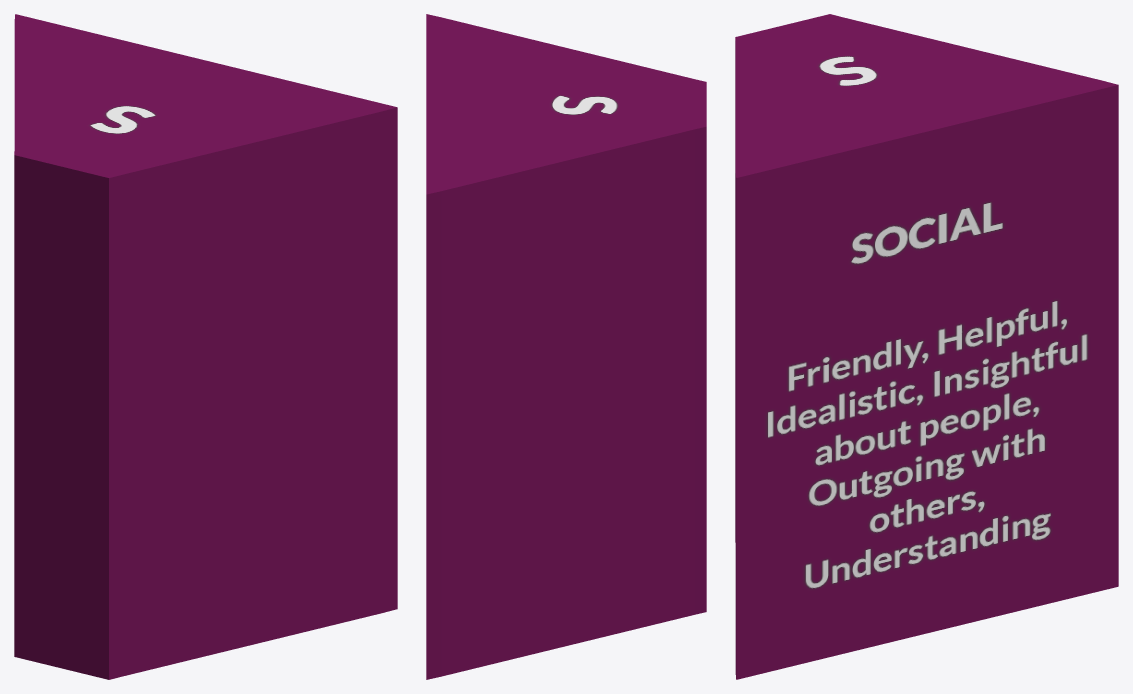
The model's file is smodel.glb.
The picture shows the model from 3 angles, left to right: view 1: azimuth 30°, elevation 25°; view 2: azimuth 150°, elevation 25°; view 3: azimuth 270°, elevation 25°; orthographic projection. The views are drawn at different scales.
Visible parts, largest first — view 1: Object008; view 2: Object008; view 3: Object008.
Boxes of the visible parts, <box> form: Object008: <box>14,14,397,679</box>; Object008: <box>426,14,706,679</box>; Object008: <box>735,14,1118,679</box>.
Bounding box in the file's own units: 0.4373 × 0.6232 × 0.4315.
1 material, 1 textured.
